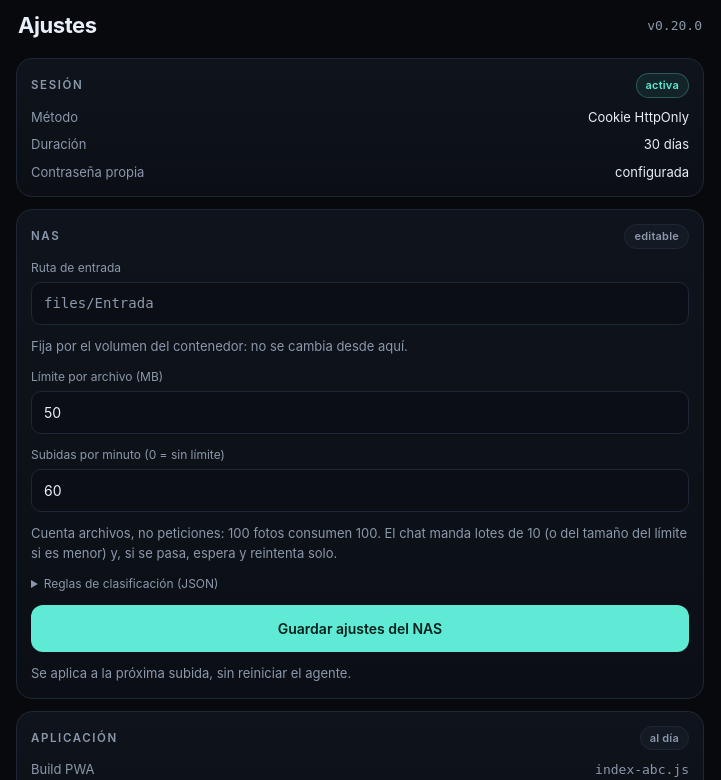
Ajustes · NAS › explica el error del backend sin romper el formulario
Expected: the number field showing "50" is shown, top-left (31, 391), bottom-right (689, 434)
Click the button "Guardar ajustes del NAS" at [360, 628], box top-left (31, 605), bottom-right (689, 652)
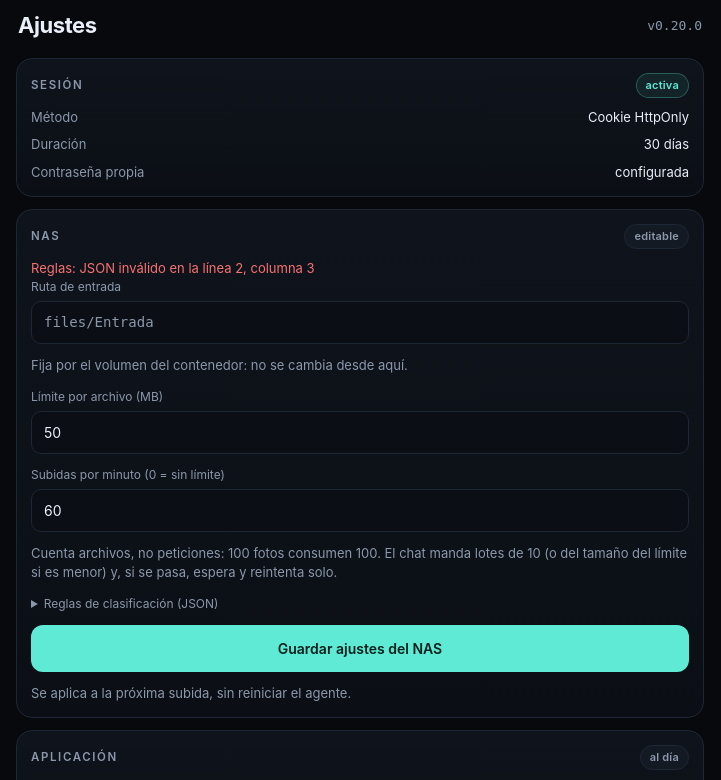
Expected: the number field showing "50" is shown, top-left (31, 410), bottom-right (689, 454)
Result: the text "Reglas: JSON inválido en la línea 2, columna 3" is shown at top-left (31, 260), bottom-right (315, 276)
